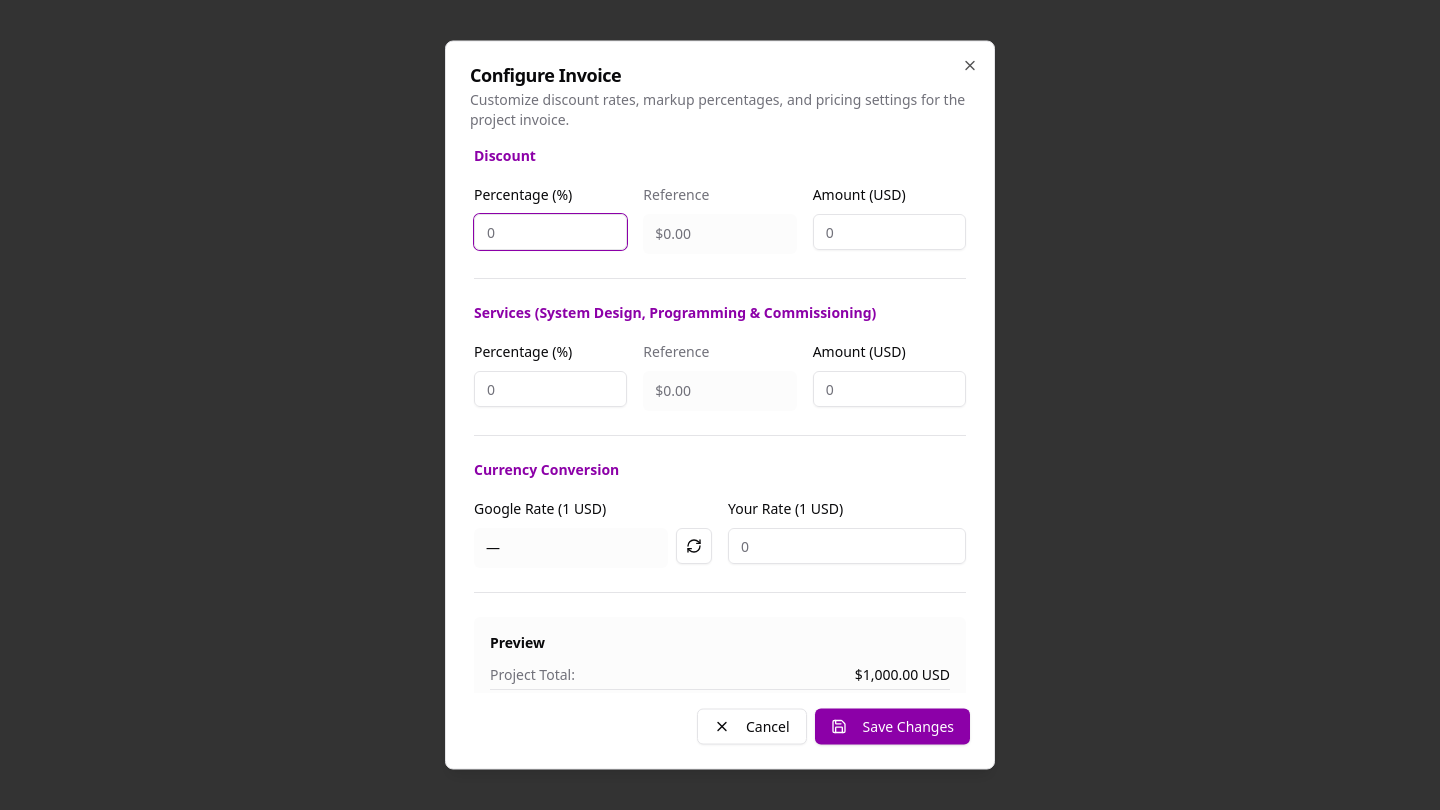
Test: InvoiceSettingsModal › shows error message when save fails
Fill in required fields
Type "10" into the 1st number field labelled "Percentage (%)".
click(551, 232); type("10")  # box [474,214,627,250]
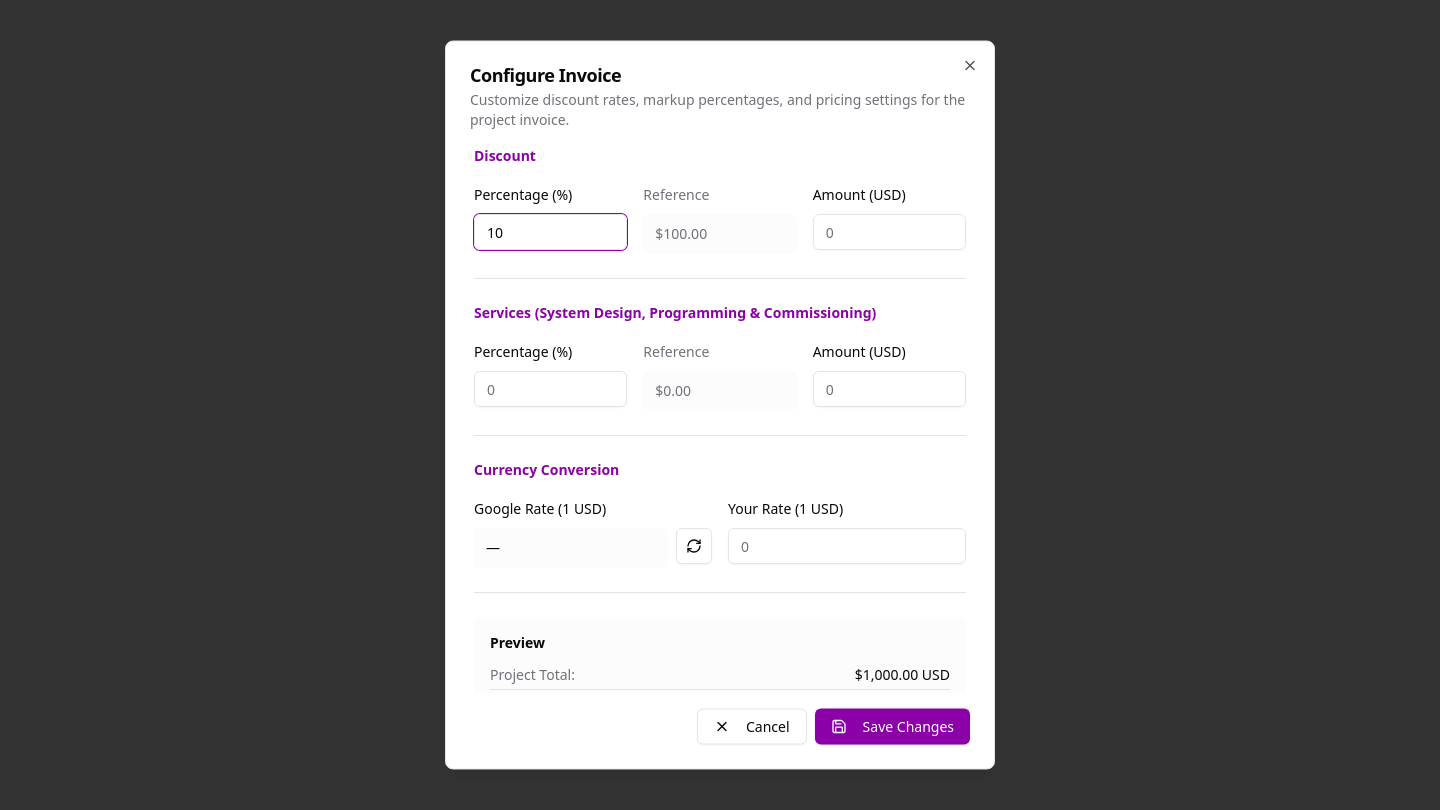
Type "100" into the number field labelled "Amount (USD)" next to "100.00".
click(889, 232); type("100")  # box [813,214,966,250]
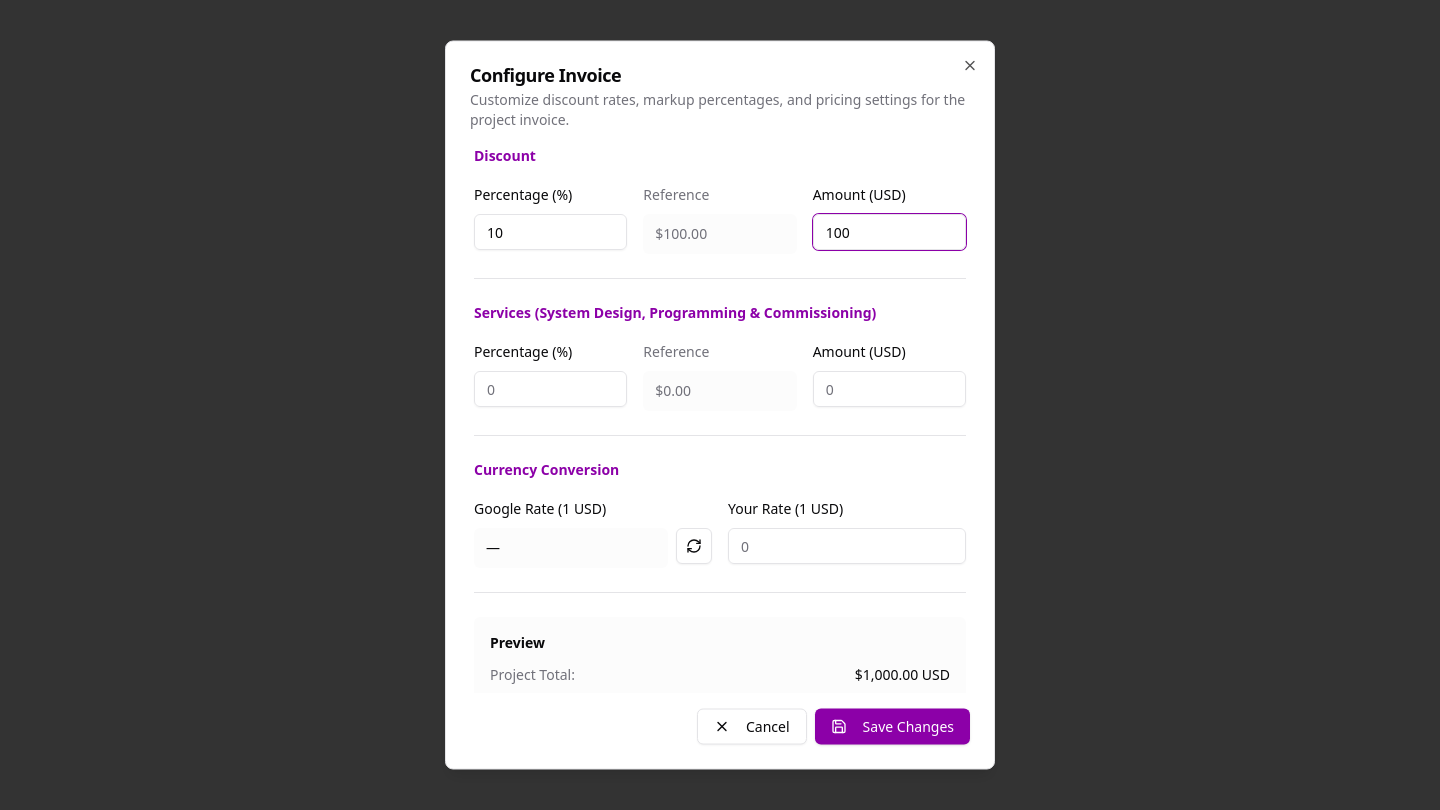
Submit form
Click the button "Save Changes".
click(892, 726)  # box [815,708,970,744]
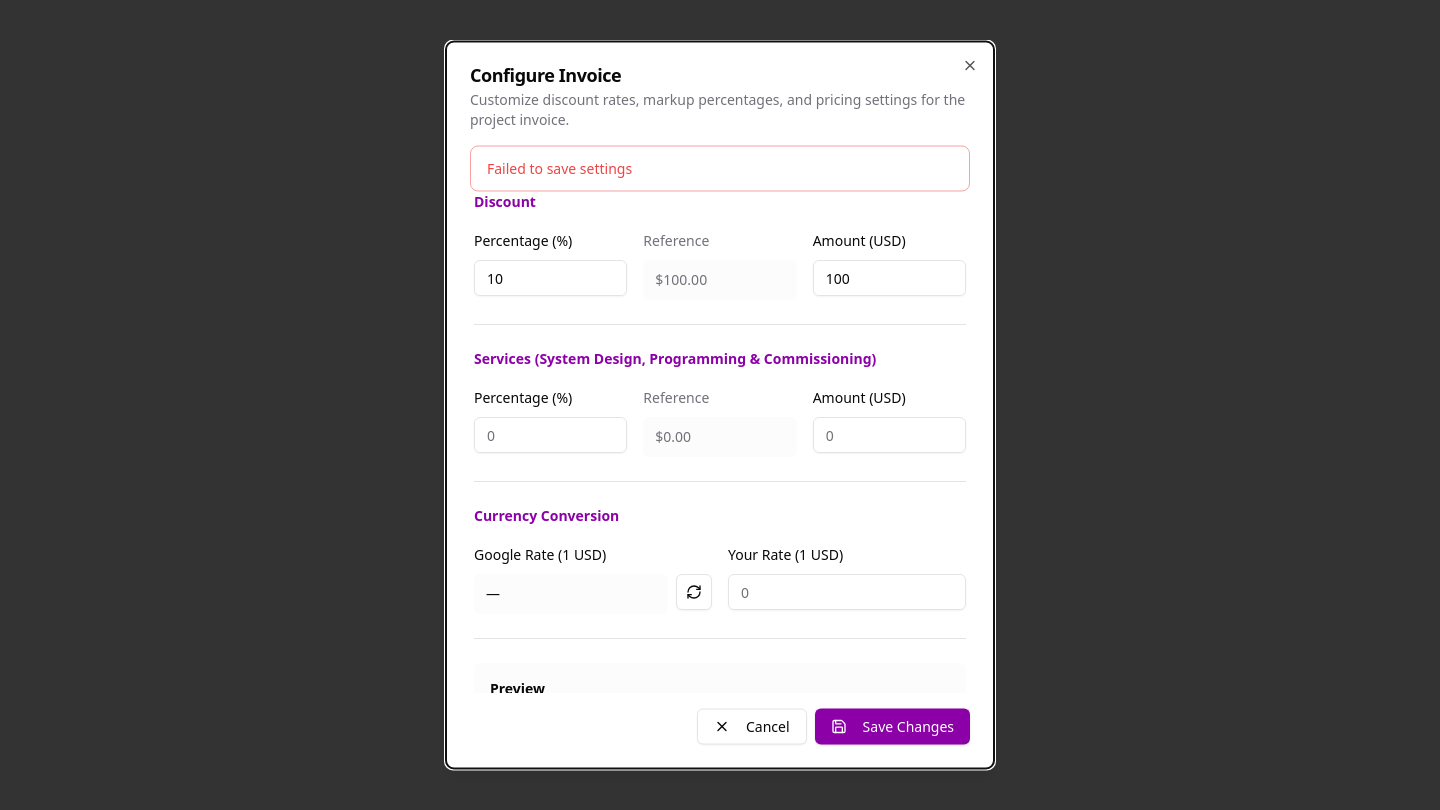
Expected: the text "Failed to save settings" is shown, [487,158,632,178]
